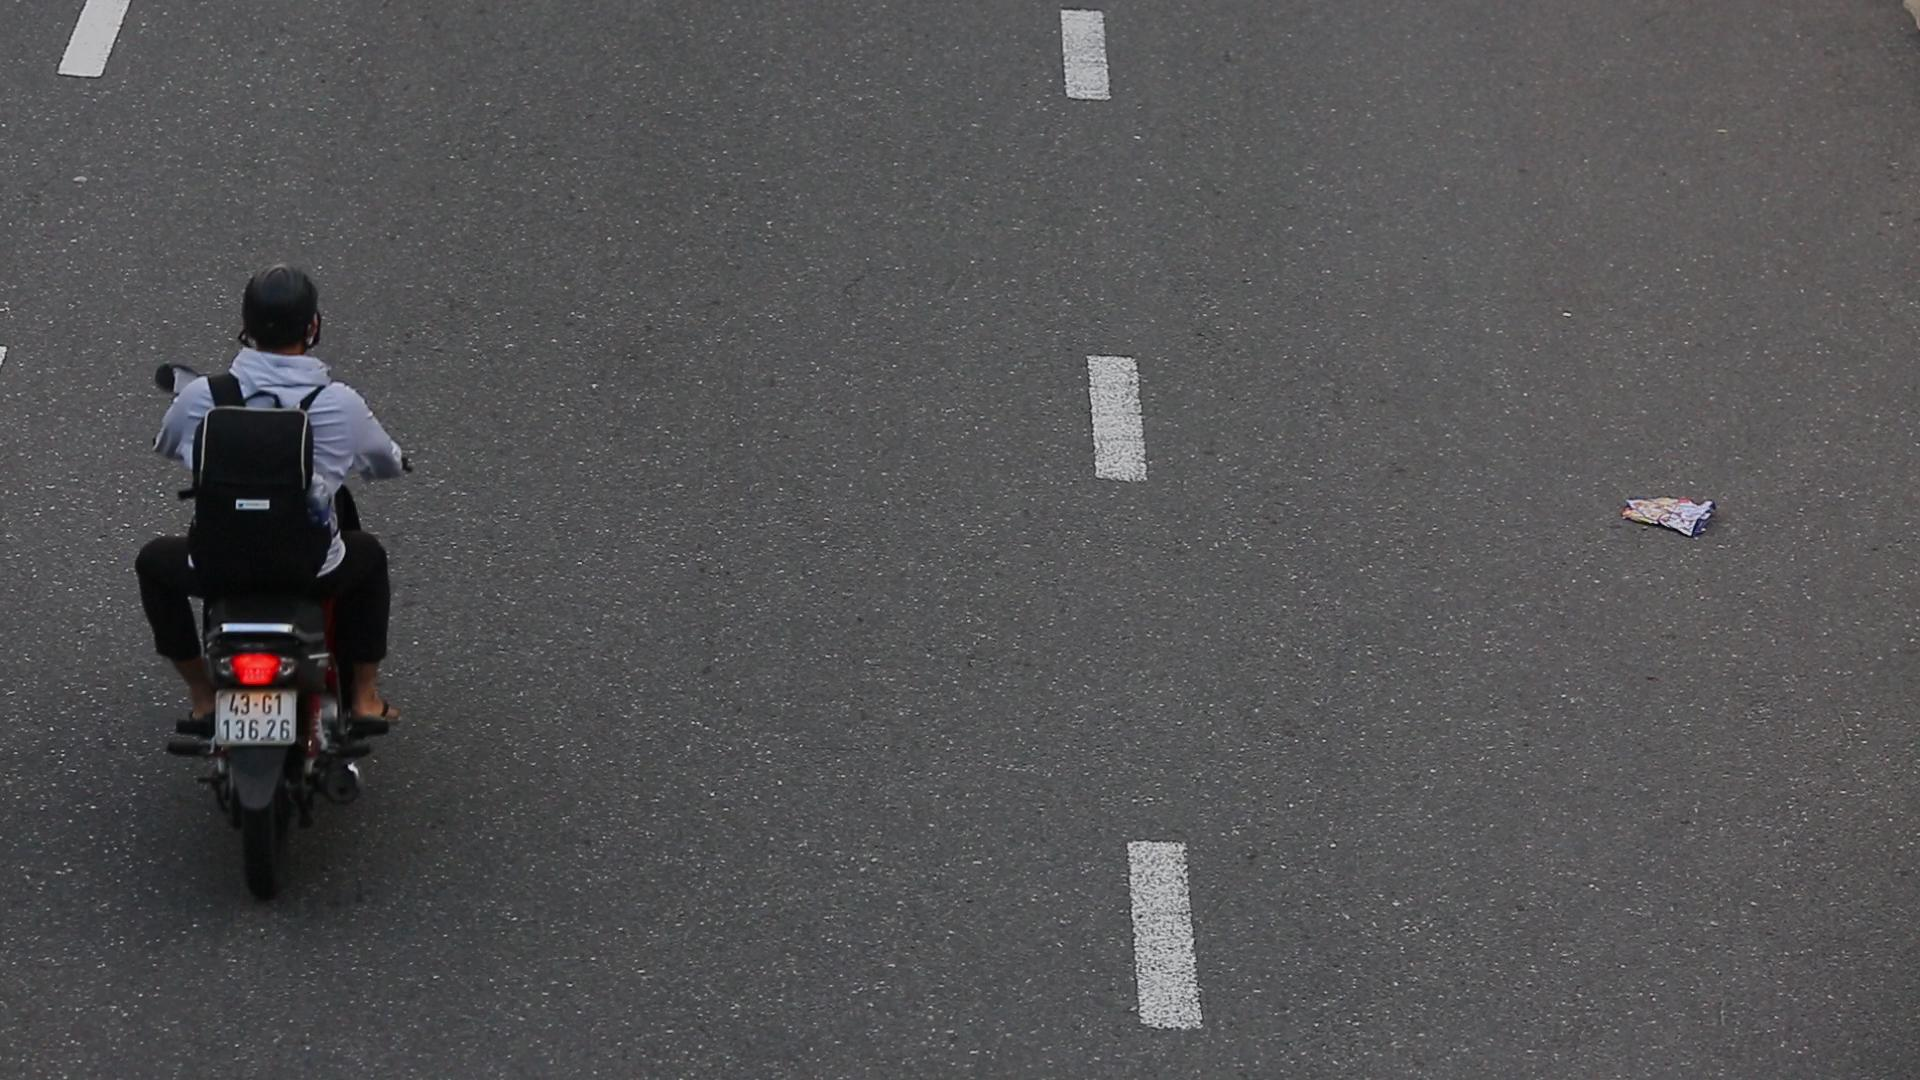motobike: (94, 237, 440, 919)
